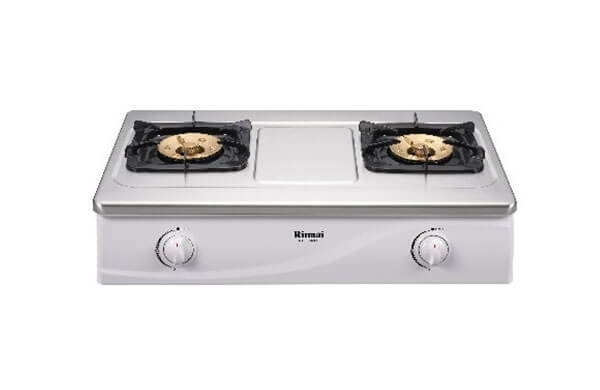gasoven: (91, 107, 517, 285)
